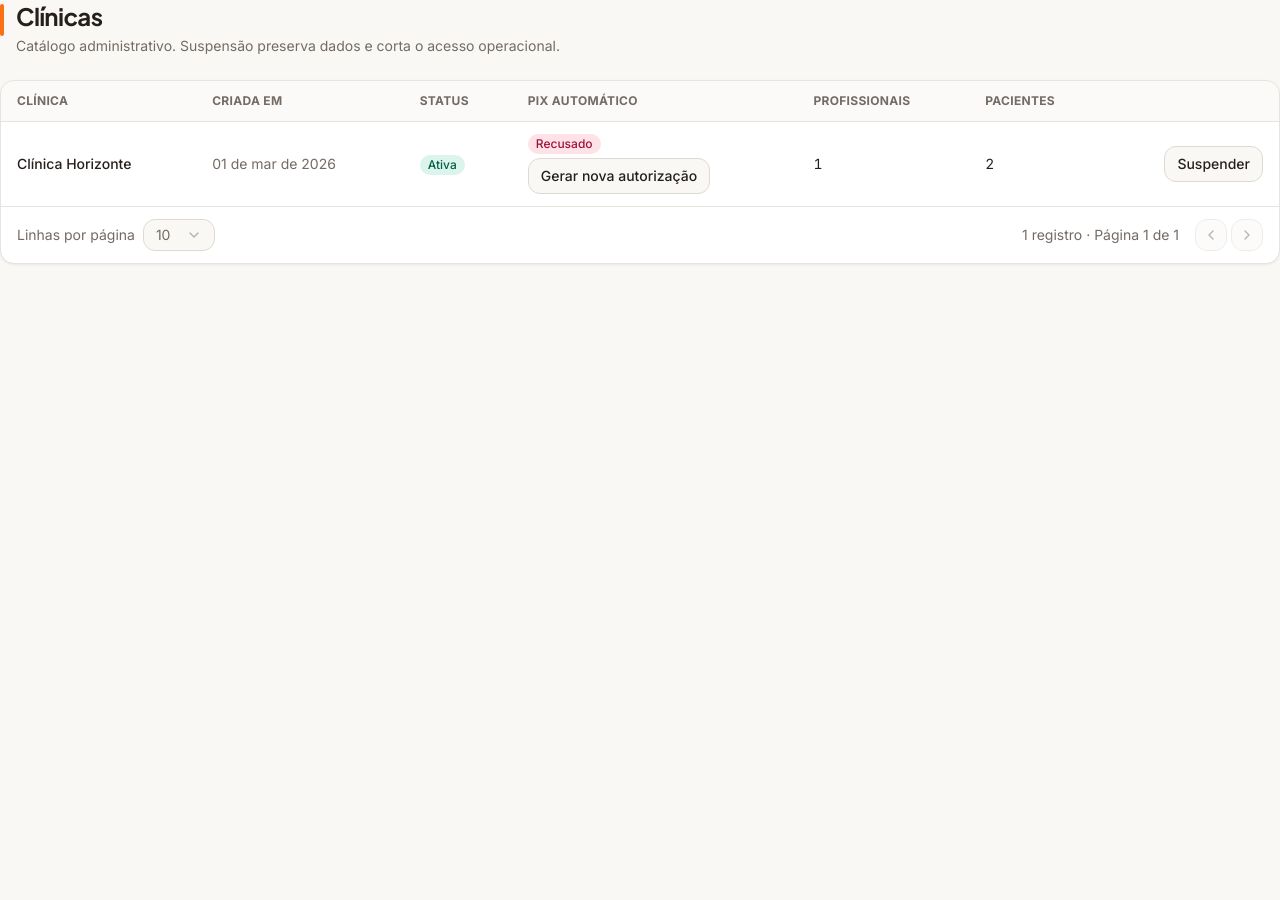
it: PlatformClinicsPage — Pix Automático reissue › erro seguro não mostra SQL
Click the button "Gerar nova autorização" at (619, 176), box [528, 158, 710, 194]
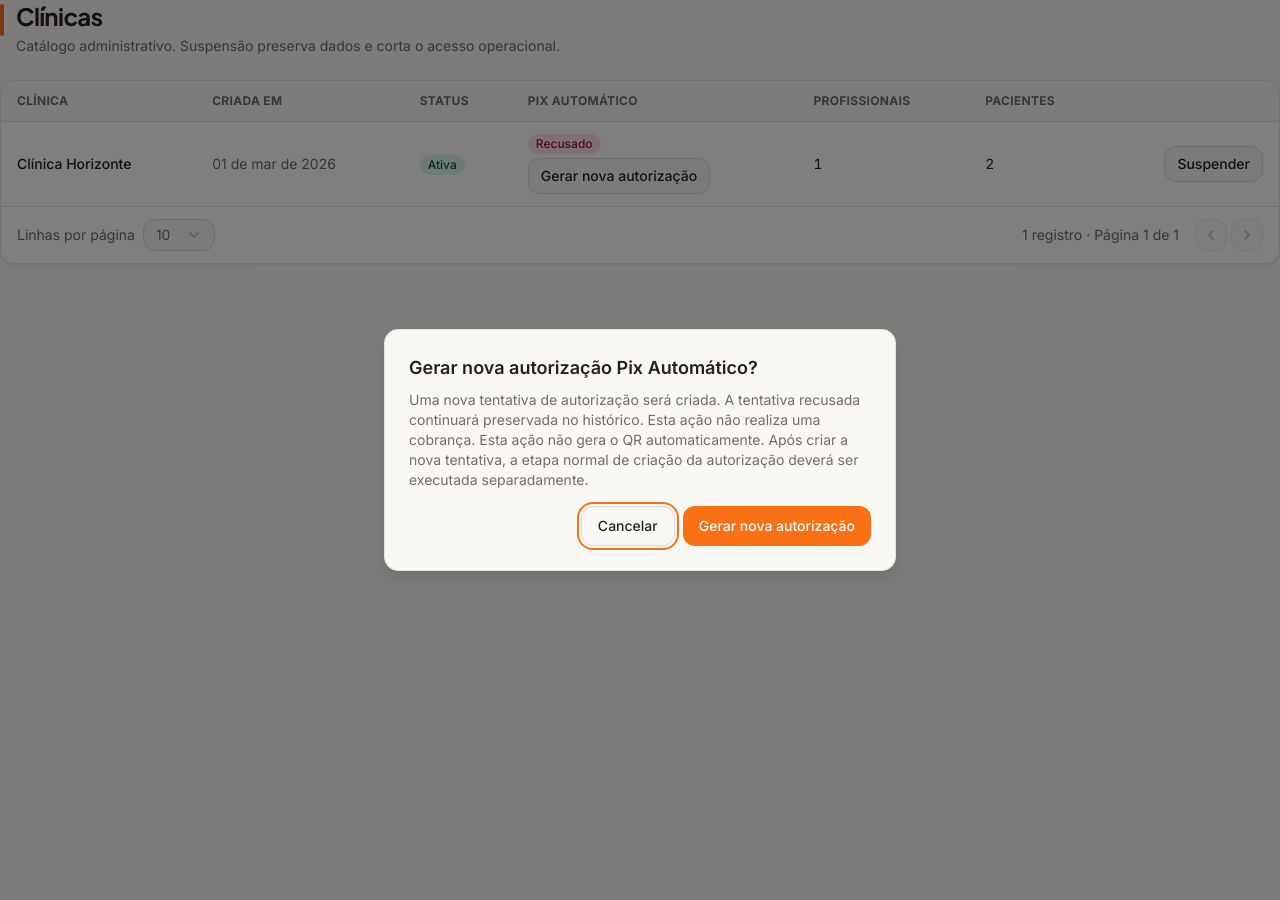
Click the button "Gerar nova autorização" at (777, 526), box [683, 506, 871, 546]
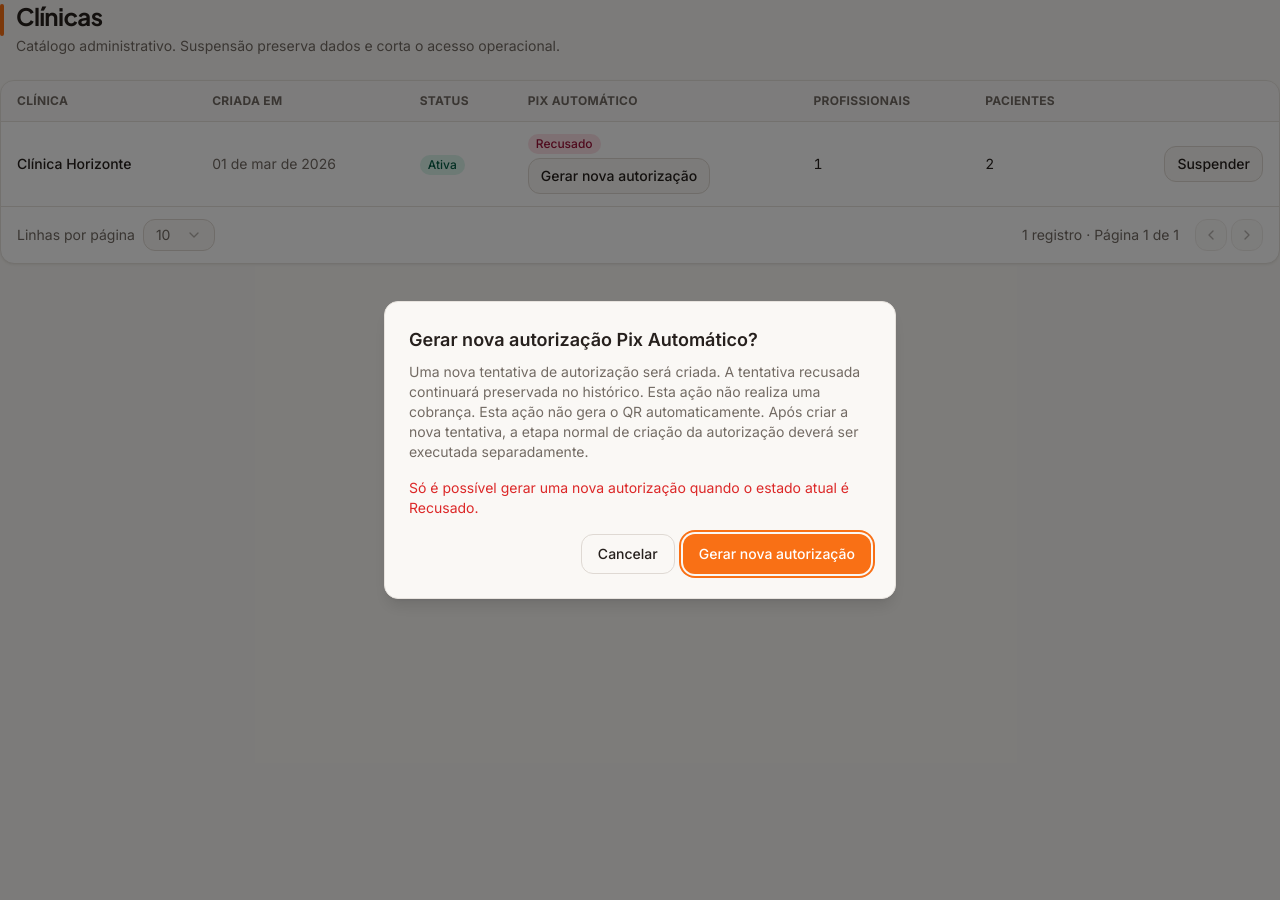
Check: the text "estado atual é Recusado" is shown, box [409, 479, 849, 516]
